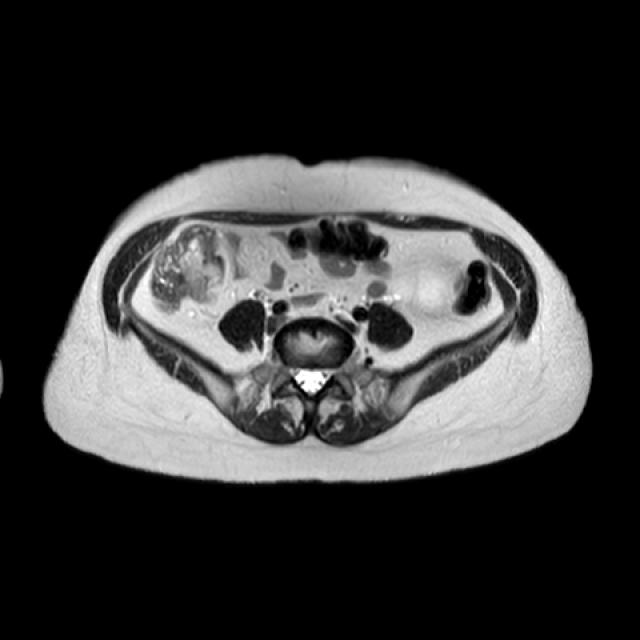sol: (412, 275, 453, 318)
